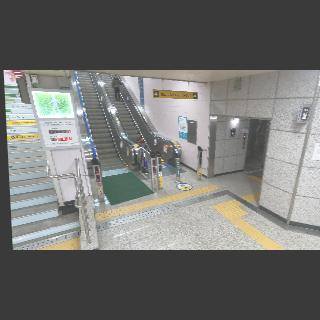anomaly: (129, 134, 145, 148)
normal: (109, 72, 126, 102)
